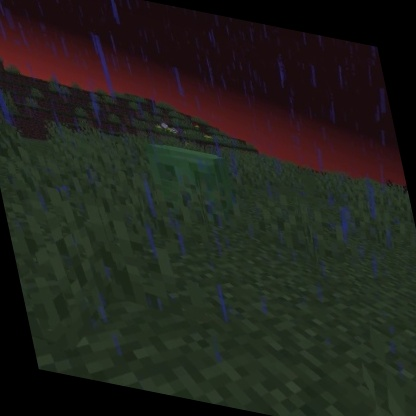slime: (140, 137, 240, 217)
